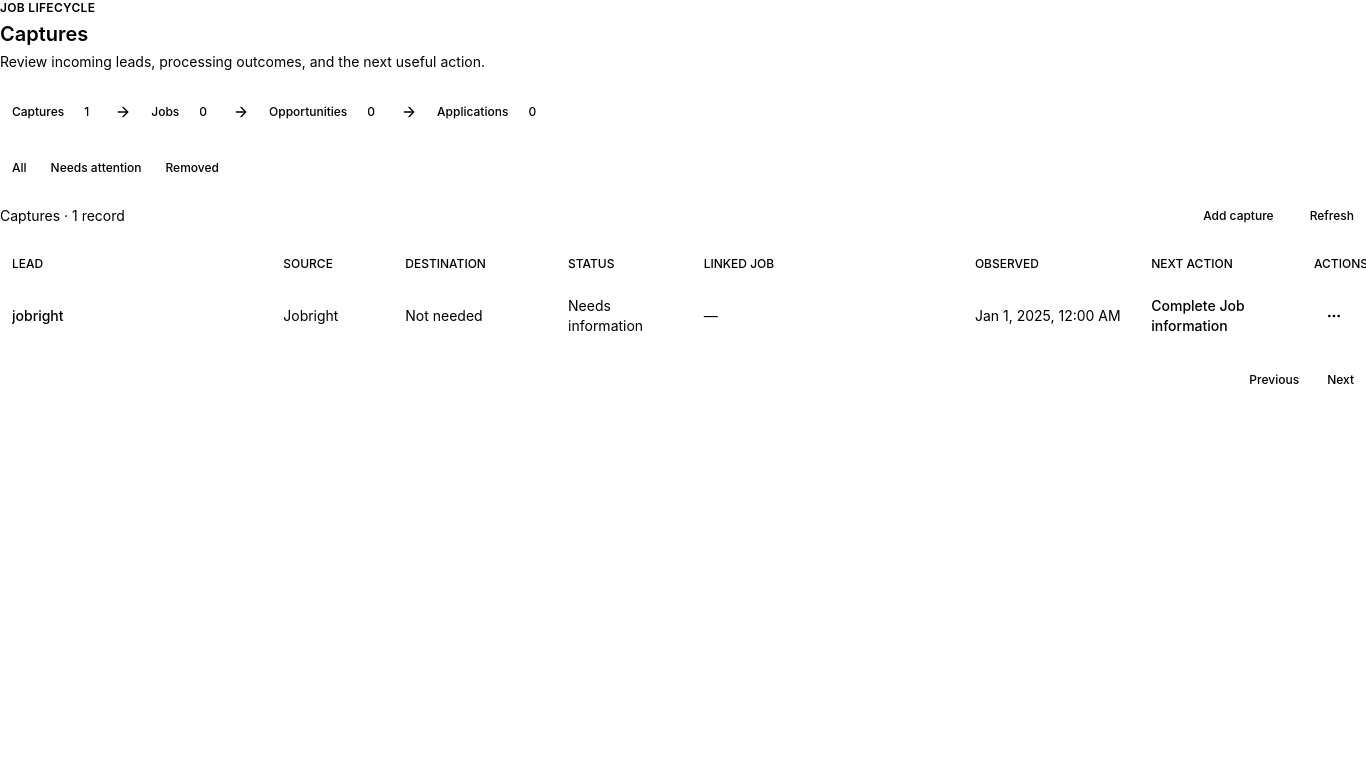
LifecycleWorkbench action matrices and modal flows › keeps removed and restored revisions visible in Capture history without claiming rationale storage
What coordinates should you click on to do the following:
click the button named "Actions for row jobright"
I would click on:
 (1334, 316)
Its box is [1314,300,1354,332].
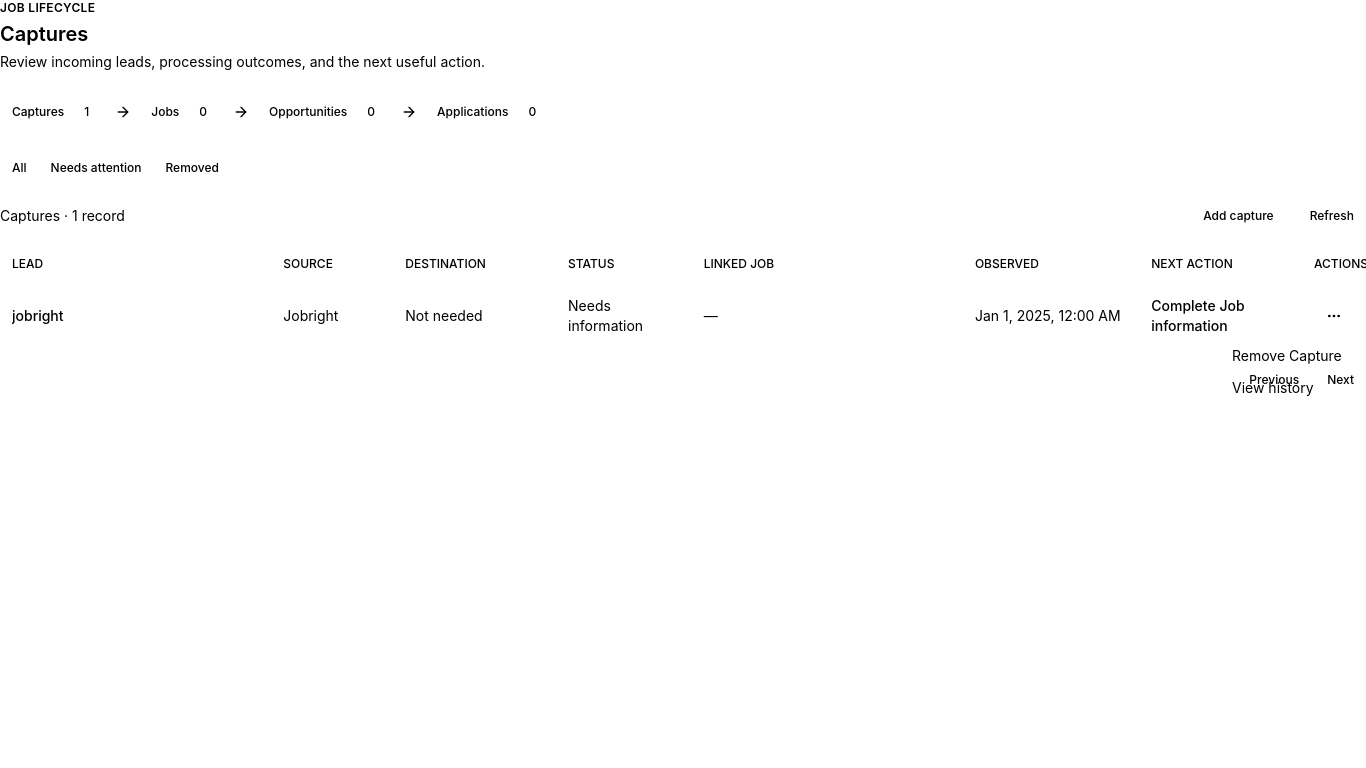
What coordinates should you click on to do the following:
click the menu item "View history"
I would click on:
 (1273, 388)
Its box is [1232,379,1314,396].
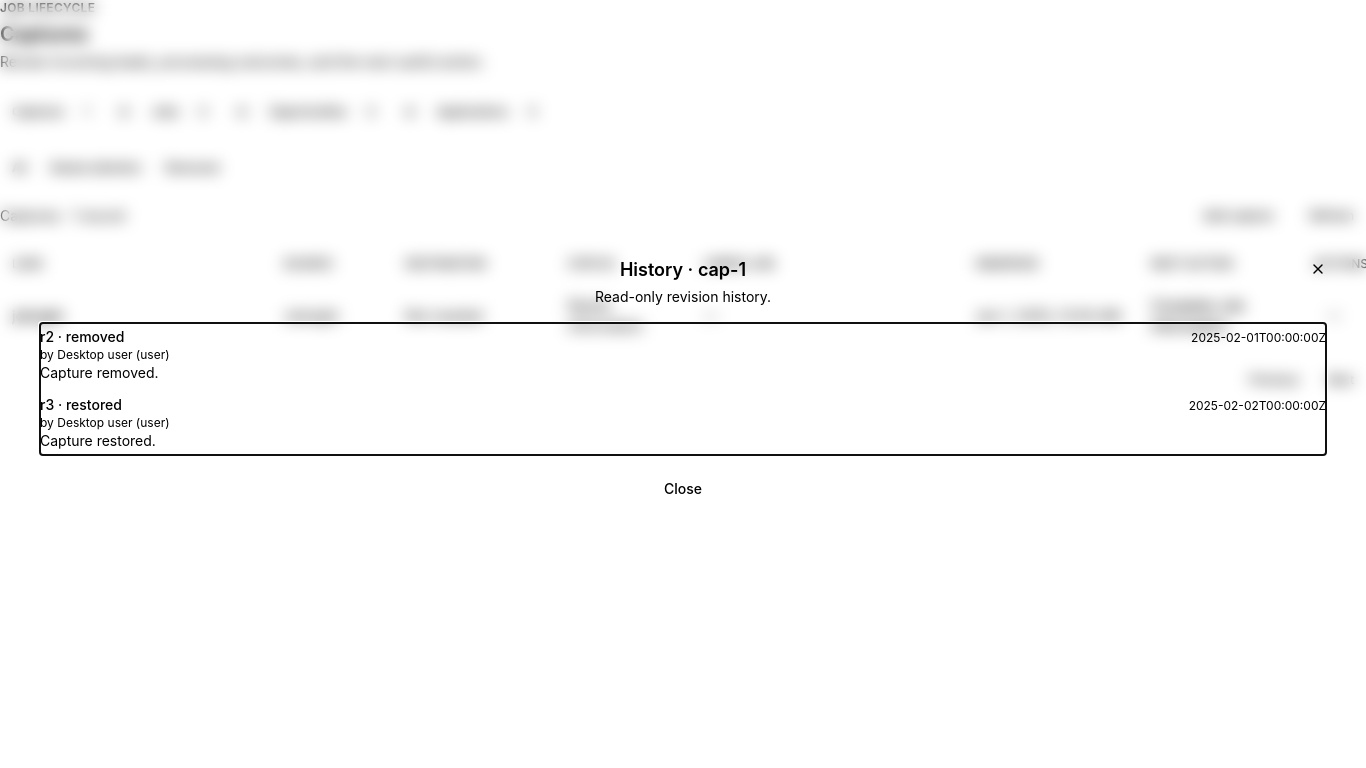
Expected: the dialog "History · cap-1" does not show "rationale", [16,237,1350,531]
Result: the text "r2 · removed" is shown at [40,327,124,347]
Result: the text "r3 · restored" is shown at [40,395,122,415]
